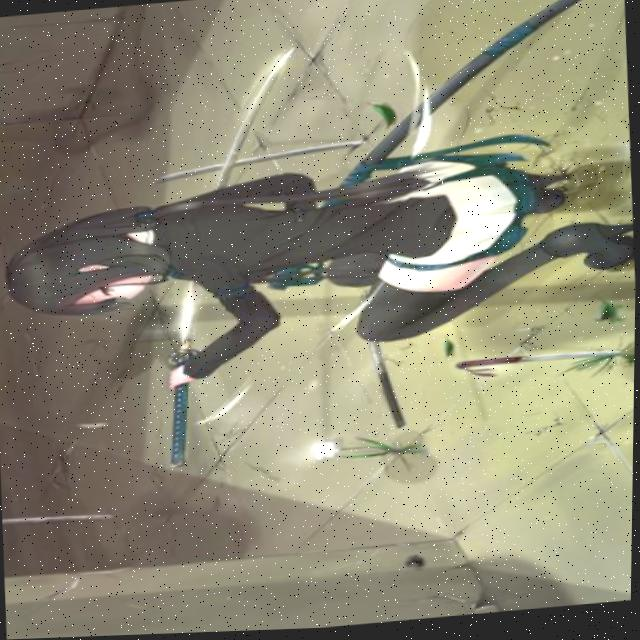knife: (147, 47, 321, 471), (315, 0, 612, 208), (455, 349, 626, 375)
